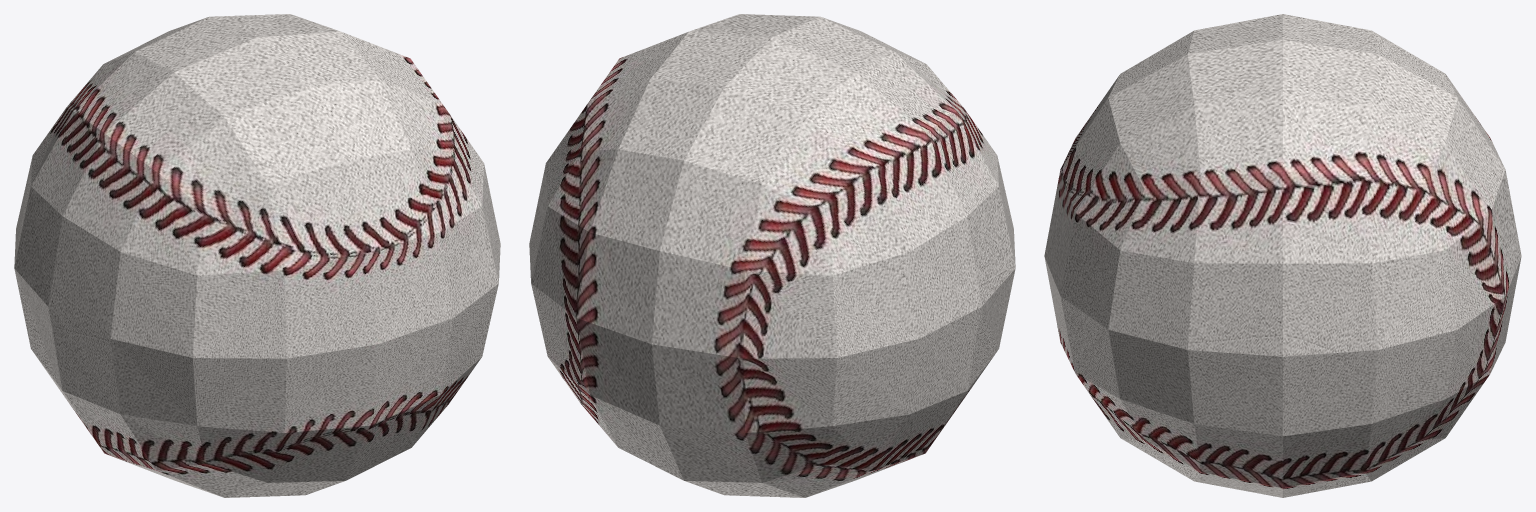
File: Baseball.glb
3 views of the same model, side by side, from view 1: azimuth 30°, elevation 25°; view 2: azimuth 150°, elevation 25°; view 3: azimuth 270°, elevation 25° (orthographic).
Parts seen in each view (by area): view 1: Node; view 2: Node; view 3: Node.
Boxes of the visible parts, box(x1,y1,x2,y2) form: Node: box(14, 14, 500, 497); Node: box(529, 14, 1015, 497); Node: box(1044, 14, 1521, 497).
Bounding box in the file's own units: 0.8785 × 0.8785 × 0.8785.
1 material, 1 textured.
